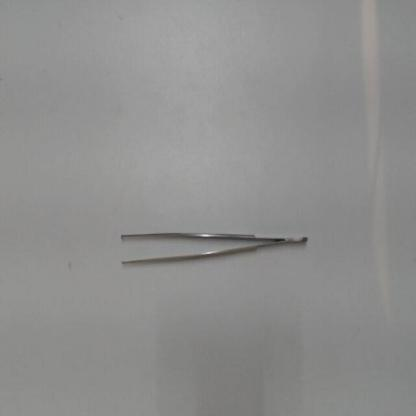Gillies Toothed Dissector: (105, 218, 315, 275)
